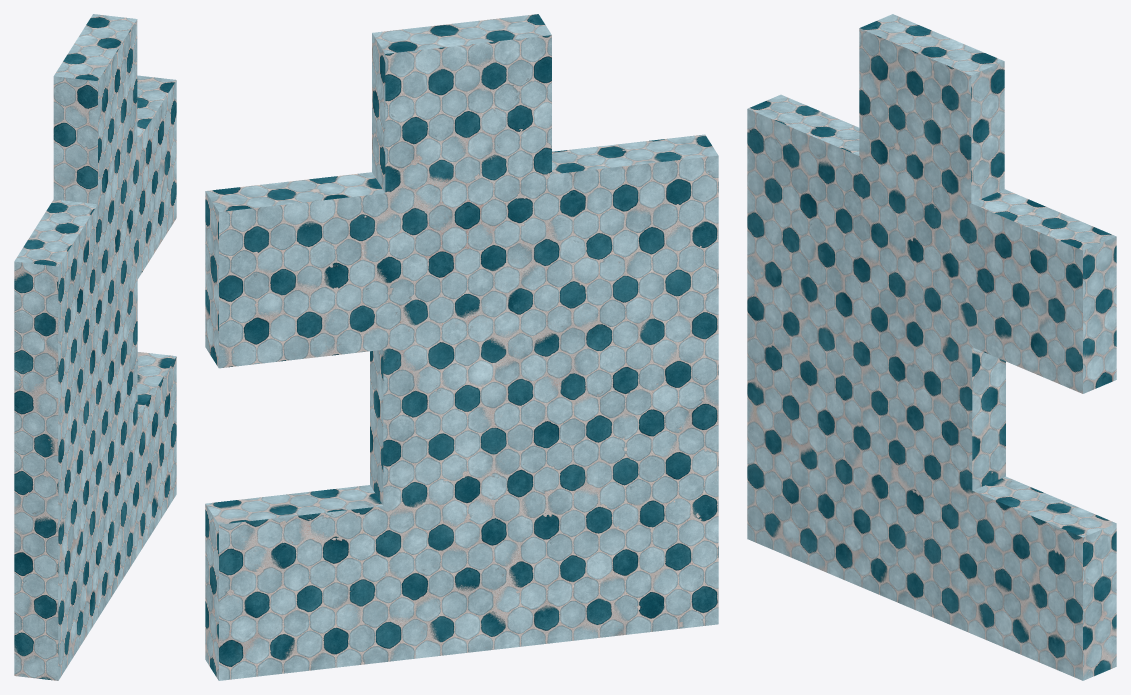
Rendered from manhghep.002.glb.
3 views of the same model, side by side, from view 1: azimuth 30°, elevation 25°; view 2: azimuth 150°, elevation 25°; view 3: azimuth 270°, elevation 25° (orthographic). The views are drawn at different scales.
Parts seen in each view (by area): view 1: manhghep.002; view 2: manhghep.002; view 3: manhghep.002.
Part boxes in pixels (<box>): manhghep.002: <box>14,14,176,680</box>; manhghep.002: <box>205,14,718,680</box>; manhghep.002: <box>747,14,1116,680</box>.
Bounding box in the file's own units: 0.3889 × 0.6486 × 0.3889.
1 material, 1 textured.
